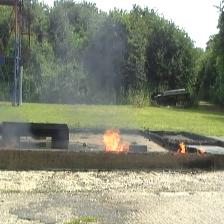fire: (102, 129, 130, 151), (178, 141, 187, 153)
